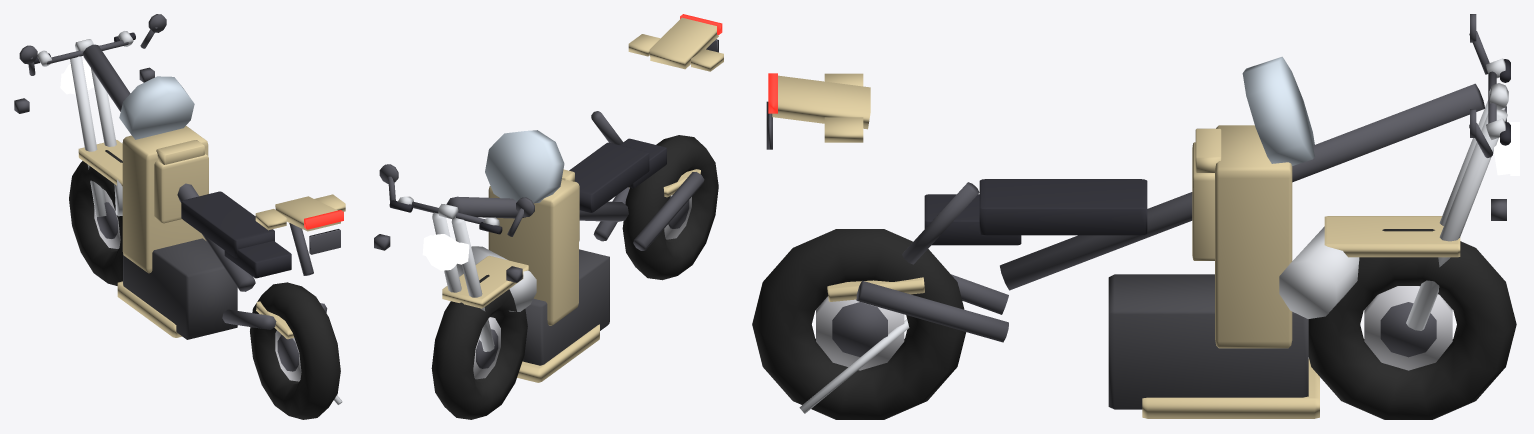
File: bike_scooter.glb
3 views of the same model, side by side, from view 1: azimuth 30°, elevation 25°; view 2: azimuth 150°, elevation 25°; view 3: azimuth 270°, elevation 25° (orthographic). The views are drawn at different scales.
Parts seen in each view (by area): view 1: Tire1, Engine, LegShield, Tire0, Seat, ShieldGlass, Tank, FrameMain, Fork-1, SeatRear, FenderFront, Tail (+15 smaller); view 2: Tire0, Tire1, LegShield, Engine, ShieldGlass, Seat, Tail, FrameMain, FenderFront, Swingarm_R, BellyPan, Fork-1 (+12 smaller); view 3: Tire1, Tire0, Engine, LegShield, FrameMain, Seat, ShieldGlass, FenderFront, EngineCyl, BellyPan, Tail, Rim0 (+13 smaller).
Boxes of the visible parts, box(x1,y1,x2,y2) form: Tire1: box(250, 282, 340, 419); Engine: box(123, 238, 237, 339); LegShield: box(122, 126, 208, 273); Tire0: box(69, 150, 122, 285); Seat: box(181, 191, 274, 257); ShieldGlass: box(119, 76, 194, 139); Tank: box(154, 153, 208, 223); FrameMain: box(82, 44, 255, 291); Fork-1: box(70, 56, 106, 216); SeatRear: box(224, 241, 291, 278); FenderFront: box(78, 140, 122, 186); Tail: box(275, 196, 340, 231); Tire0: box(431, 274, 527, 419); Tire1: box(622, 135, 718, 280); LegShield: box(488, 179, 578, 325); Engine: box(522, 249, 609, 365); ShieldGlass: box(485, 130, 564, 203); Seat: box(569, 142, 649, 212); Tail: box(649, 17, 718, 69); FrameMain: box(446, 196, 628, 221); FenderFront: box(442, 255, 528, 308); Swingarm_R: box(633, 172, 704, 250); BellyPan: box(517, 324, 599, 382); Fork-1: box(451, 218, 494, 351); Tire1: box(752, 229, 966, 419); Tire0: box(1308, 229, 1516, 419); Engine: box(1108, 274, 1308, 409); LegShield: box(1215, 125, 1292, 348); FrameMain: box(1000, 83, 1484, 290); Seat: box(979, 179, 1147, 235); ShieldGlass: box(1242, 56, 1314, 165); FenderFront: box(1324, 216, 1460, 257); EngineCyl: box(1279, 226, 1359, 318); BellyPan: box(1142, 359, 1319, 418); Tail: box(772, 75, 870, 129); Rim0: box(1364, 286, 1452, 370).
Size of the model in its own units: 0.7856 by 1.23 by 2.38.
